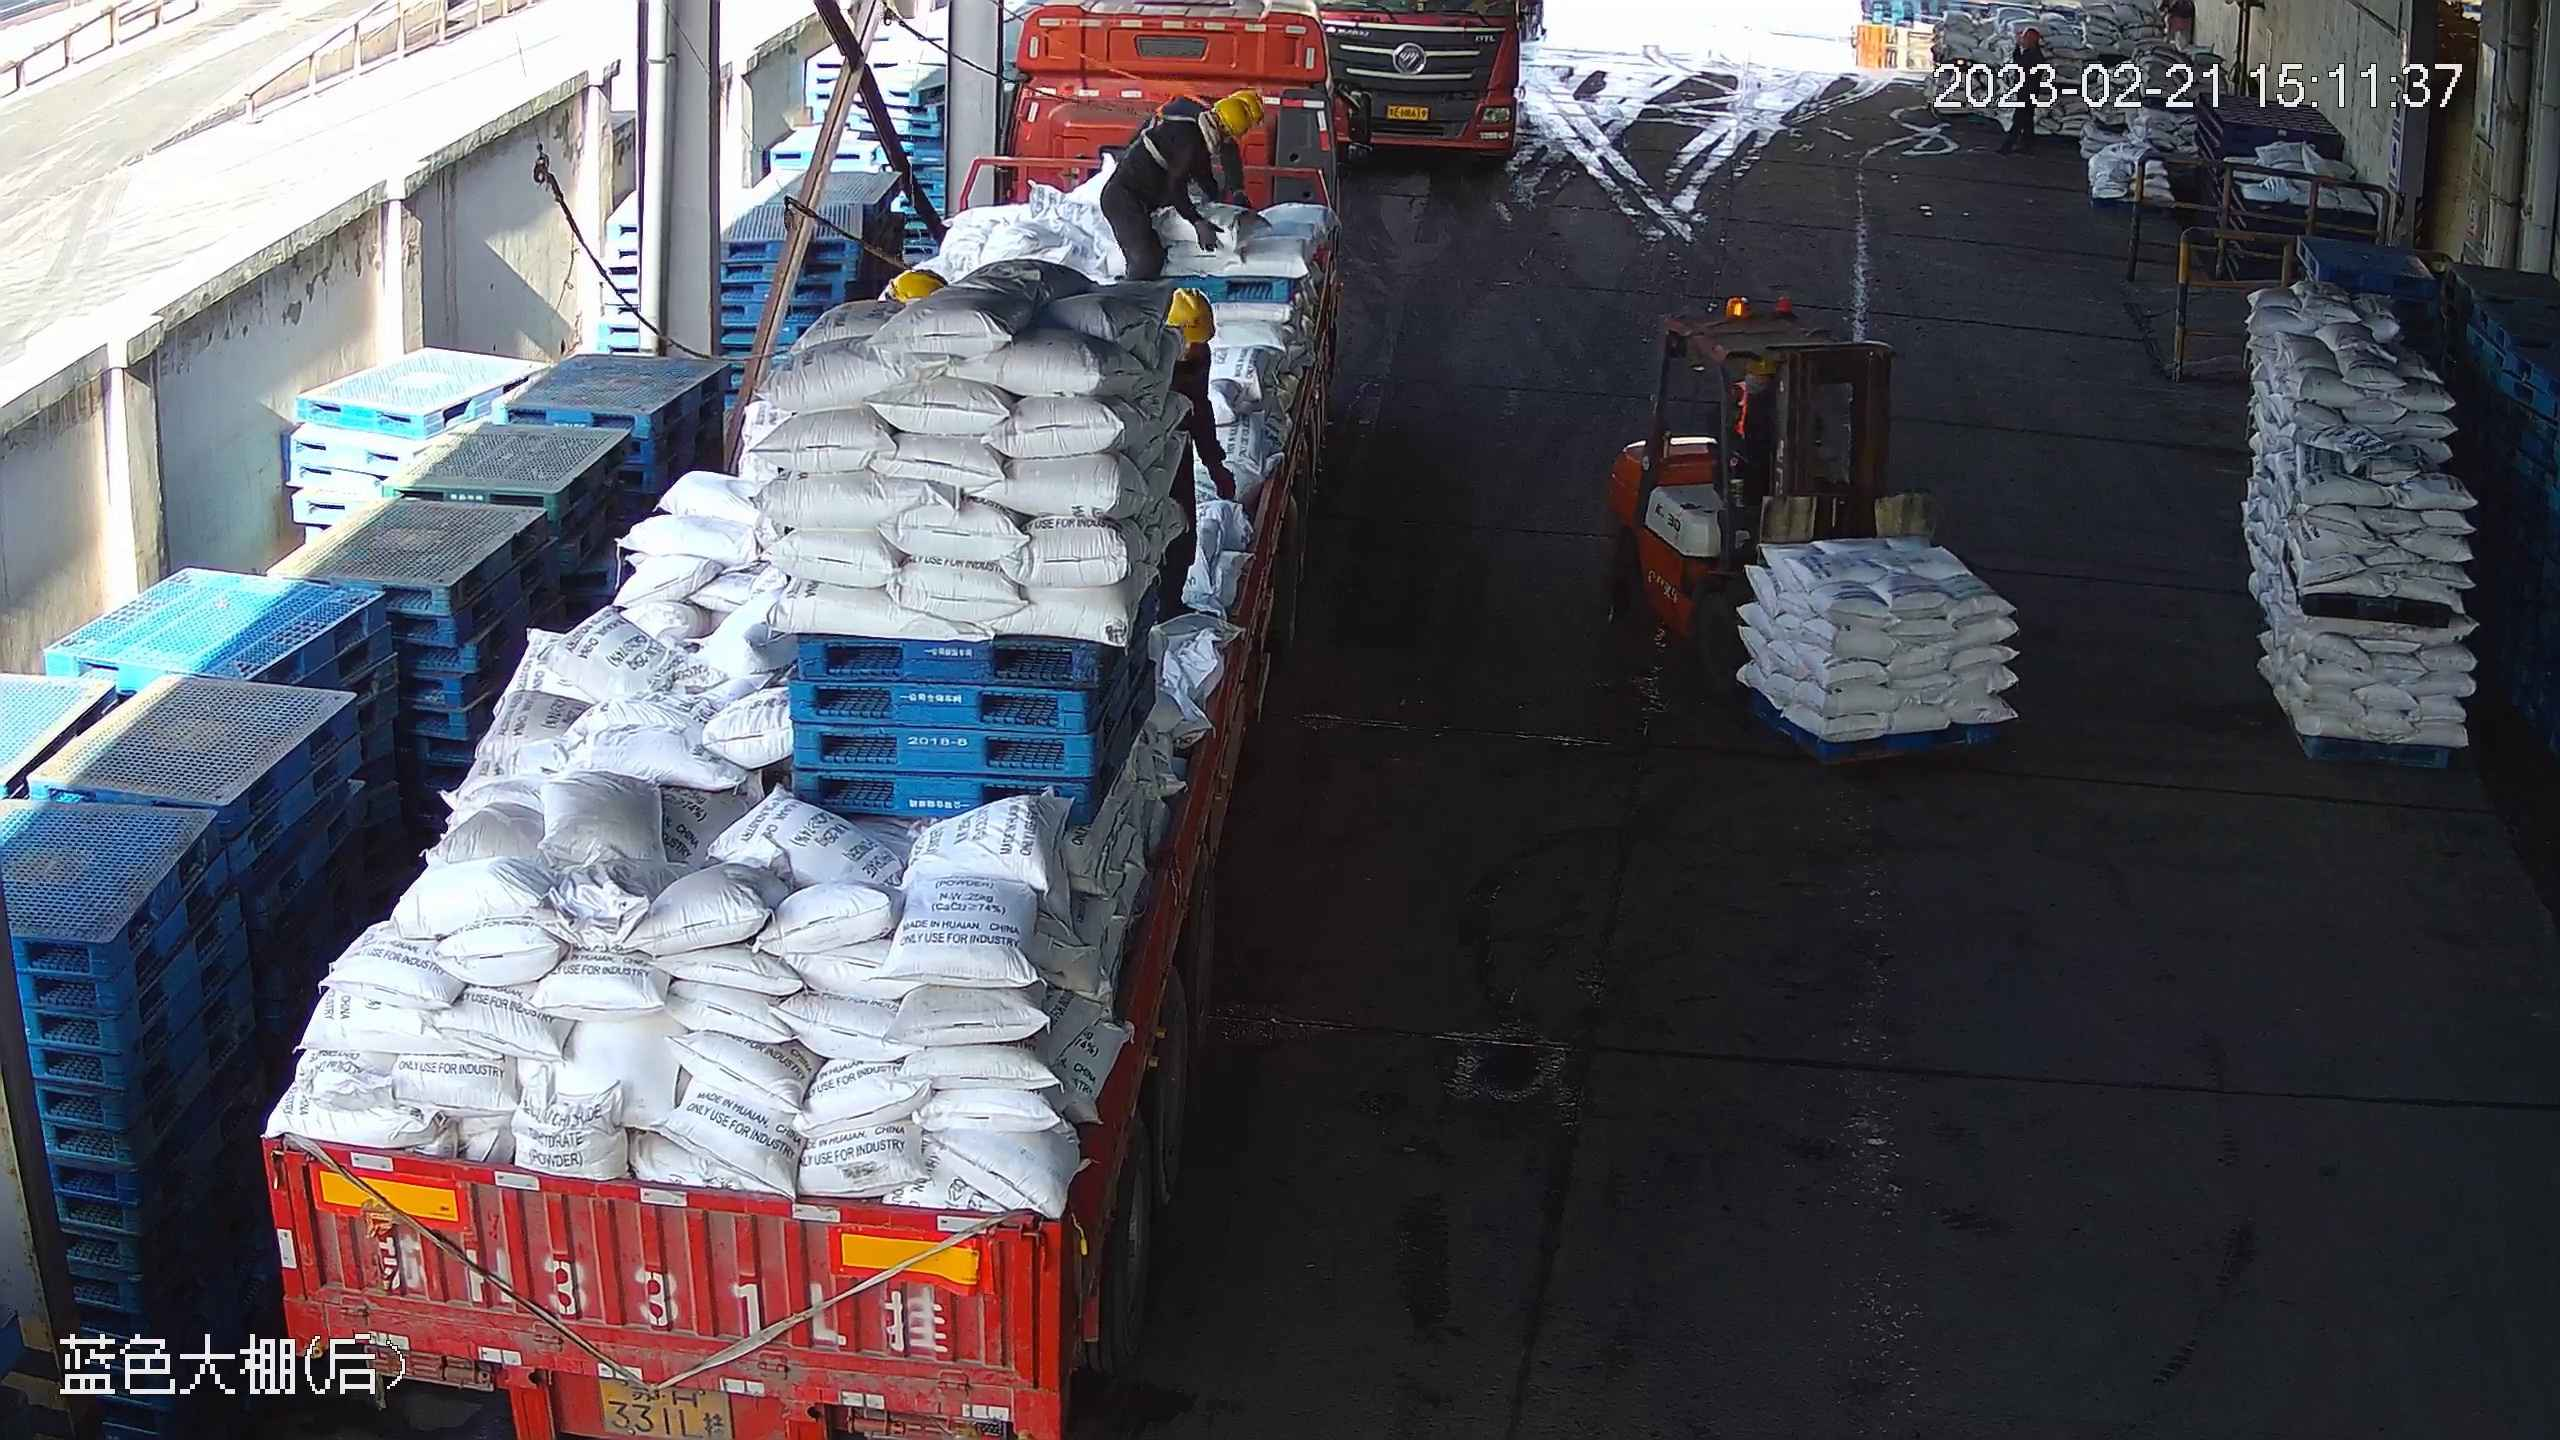belt: (1124, 115, 1198, 171), (1154, 83, 1213, 116)
head: (1166, 99, 1250, 170)
helmet: (1166, 286, 1216, 344), (891, 267, 945, 302), (1212, 98, 1250, 136), (1233, 89, 1265, 127)
people: (1099, 97, 1249, 282)
truck: (257, 1, 1373, 1440), (1313, 1, 1523, 164)
